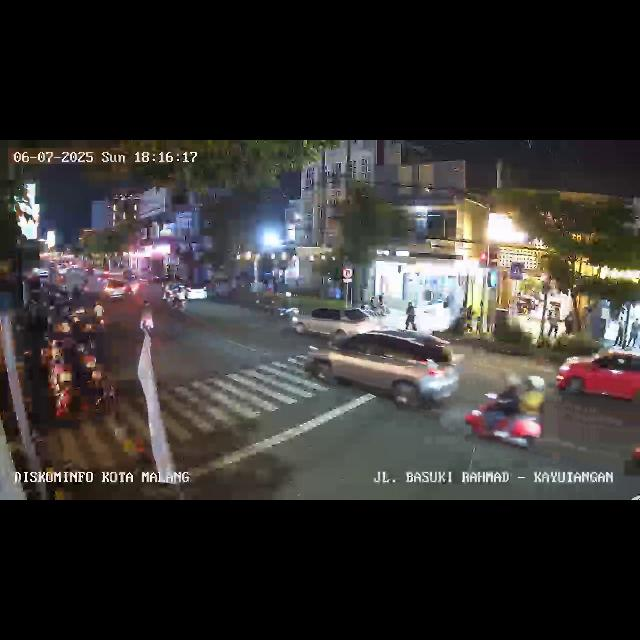car: (305, 324, 459, 414), (554, 349, 640, 415), (293, 306, 372, 338), (100, 276, 128, 302), (186, 284, 210, 302)
motorcycle: (464, 376, 546, 454), (164, 282, 188, 312), (92, 299, 106, 331), (140, 300, 154, 332)
person: (548, 311, 558, 344), (565, 309, 575, 339), (405, 302, 415, 331), (616, 317, 624, 347), (632, 316, 638, 348)
